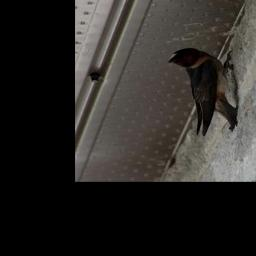Swallow: (168, 48, 241, 136)
